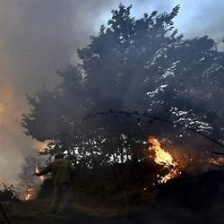fire: (135, 131, 181, 186)
smoke: (1, 1, 114, 158)
